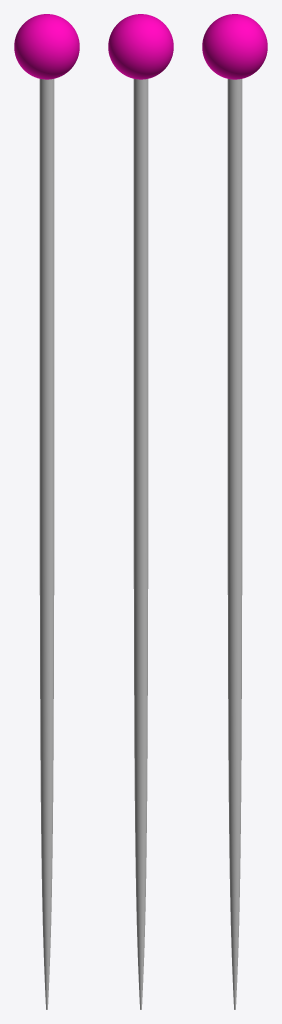
Rendered from 990_marking_pin.glb.
3 views of the same model, side by side, from view 1: azimuth 90°, elevation 25°; view 2: azimuth 150°, elevation 25°; view 3: azimuth 270°, elevation 25° (orthographic).
Visible parts, largest first — view 1: Body; view 2: Body; view 3: Body.
Boxes of the visible parts, x1,y1,x2,y2 form: Body: [14, 14, 79, 1009]; Body: [108, 14, 173, 1009]; Body: [202, 14, 267, 1009].
Bounding box in the file's own units: 0.003 × 0.0501 × 0.003.
